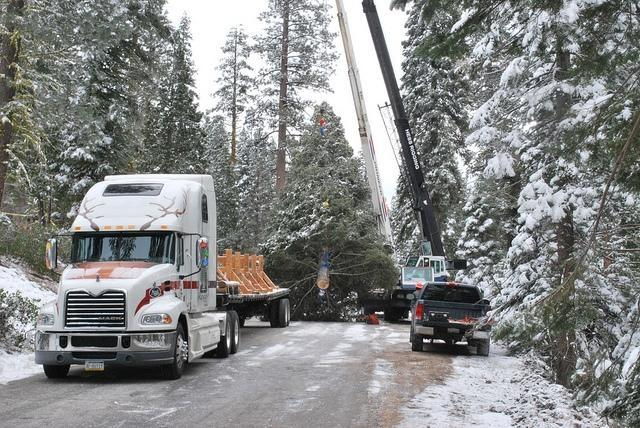car: (410, 282, 492, 339)
truck: (34, 174, 292, 380), (409, 282, 492, 358)
